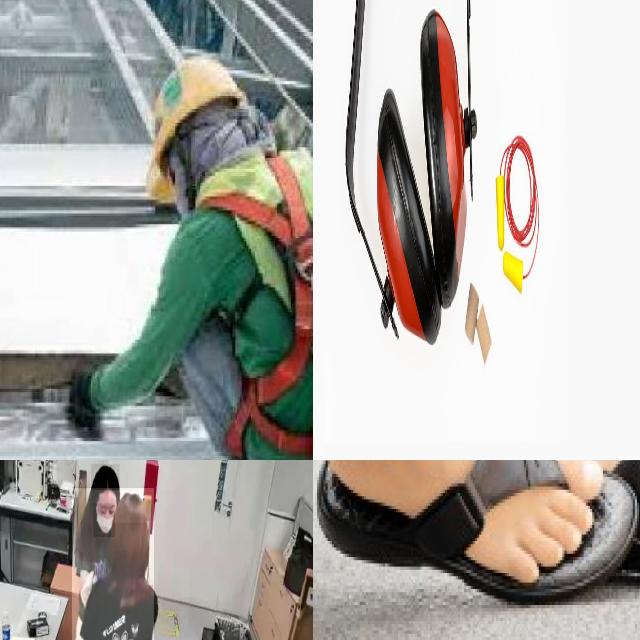Ear-protection: (375, 82, 441, 352), (417, 8, 467, 310)
Harness: (191, 147, 313, 460)
Sandals: (314, 460, 637, 601)
face_mask: (93, 503, 115, 537)
head_nohelmet: (113, 491, 147, 524), (91, 464, 120, 491)
person: (71, 488, 154, 640)
